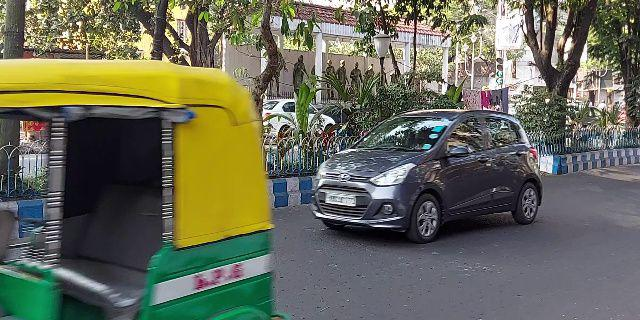Autorickshaw: (1, 55, 268, 320)
Car: (311, 108, 543, 243)
